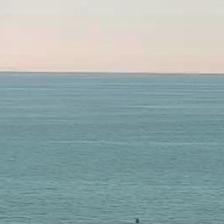surfer: (135, 219, 139, 223)
